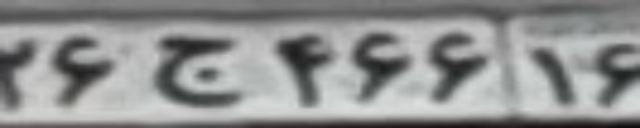1: (531, 45, 577, 107)
2: (1, 36, 37, 111)
4: (278, 35, 332, 106)
6: (350, 29, 413, 102), (51, 36, 114, 103), (430, 31, 484, 103), (589, 39, 635, 107)
jim: (153, 37, 244, 107)
